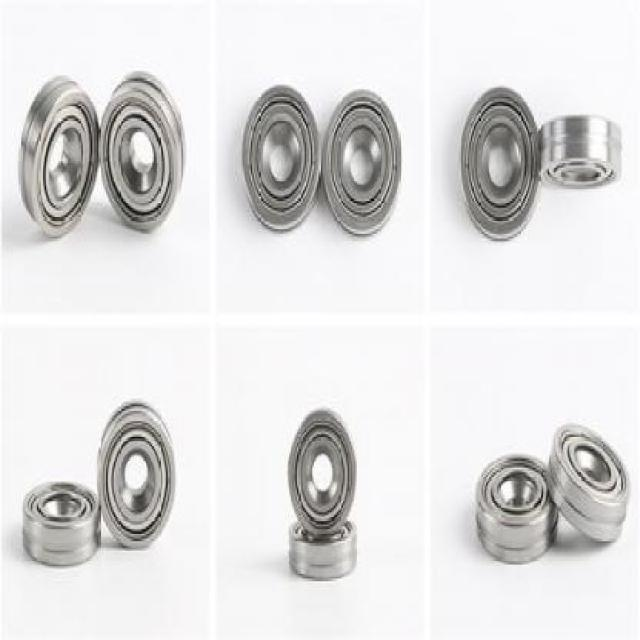Bearing: (99, 71, 188, 238), (16, 70, 96, 242), (454, 84, 539, 244), (96, 397, 177, 555), (322, 89, 405, 242), (239, 80, 319, 237), (548, 422, 636, 548), (473, 450, 560, 564), (285, 408, 356, 534), (532, 115, 630, 194), (18, 483, 100, 569), (286, 523, 361, 582)
